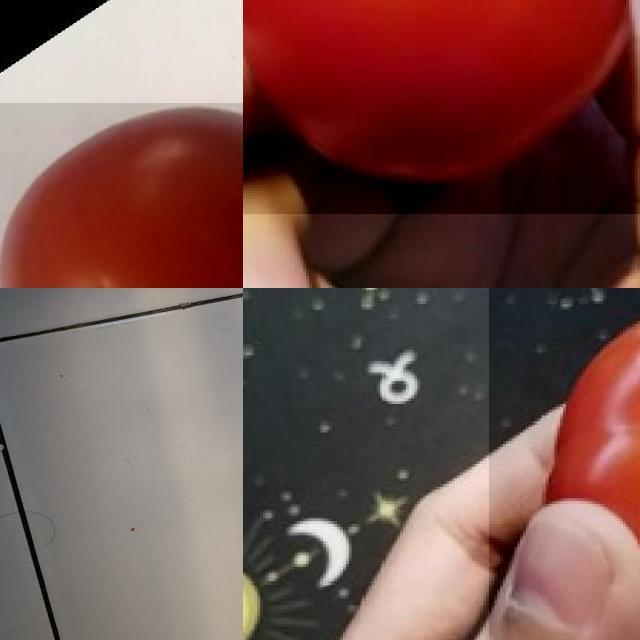Fresh Tomato: (243, 0, 640, 213), (489, 288, 640, 640), (0, 103, 243, 288)
